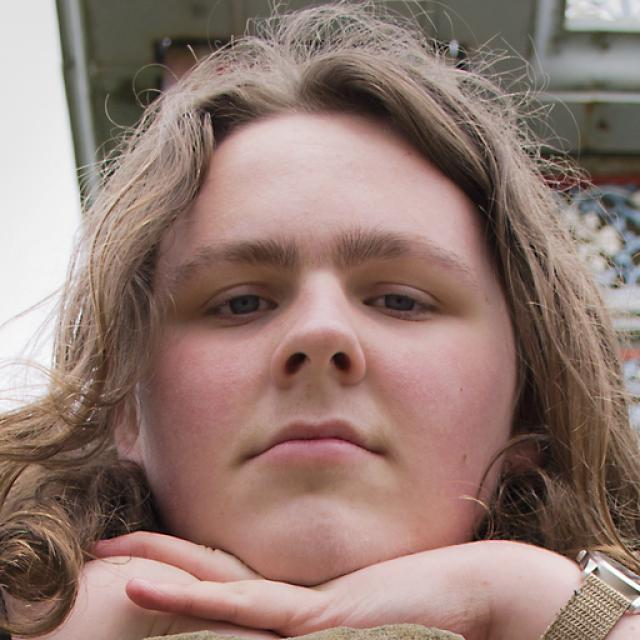sad: (147, 108, 518, 572)
